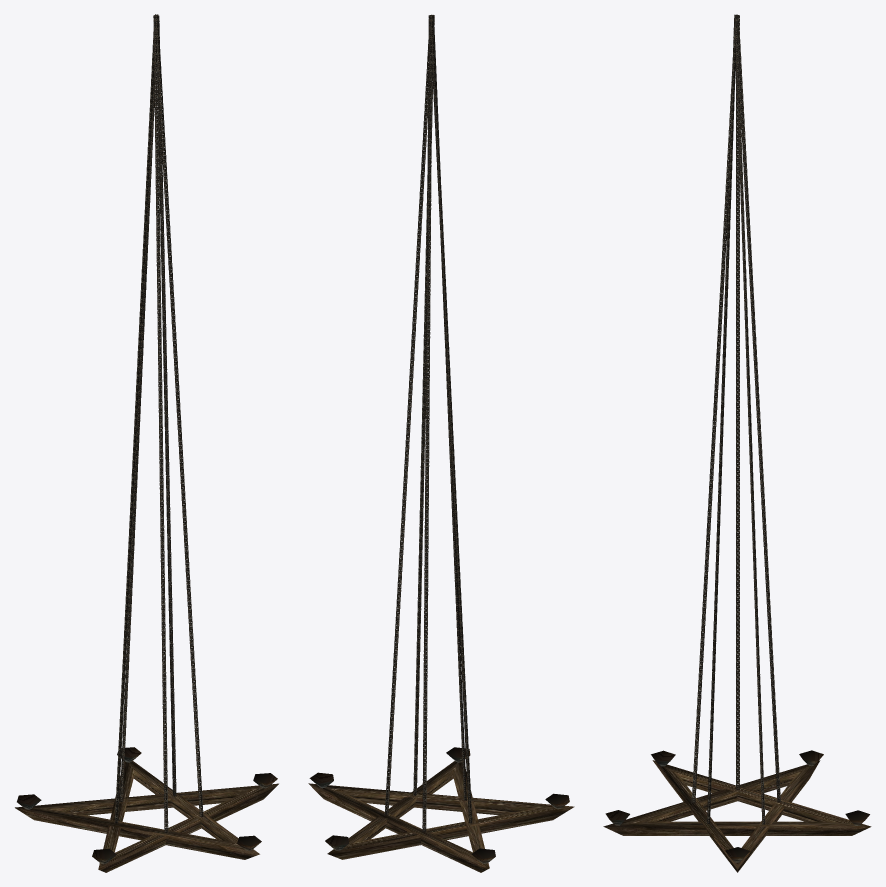
Rendered from DT_LIGHTER_PENTAGRAMM.glb.
3 renders of one model, left to right at view 1: azimuth 30°, elevation 25°; view 2: azimuth 150°, elevation 25°; view 3: azimuth 270°, elevation 25°, orthographic.
Visible parts, largest first — view 1: Mesh; view 2: Mesh; view 3: Mesh.
Boxes of the visible parts, x1,y1,x2,y2 form: Mesh: (15,14,278,872); Mesh: (308,14,574,872); Mesh: (603,14,871,872).
Bounding box in the file's own units: 1.95 × 6.71 × 2.03.
Materials: 2 (2 with a texture image).
